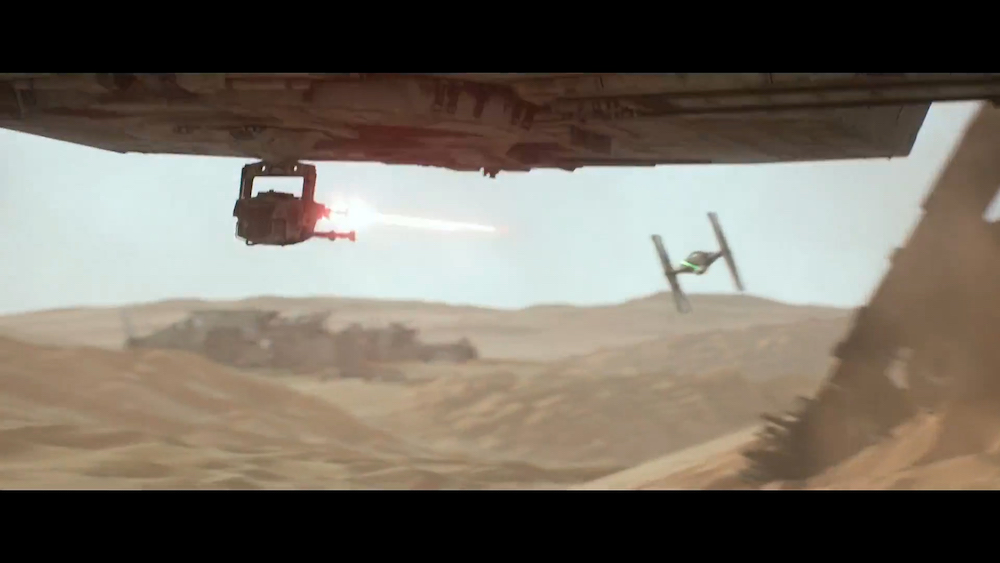Tie Fighter: (652, 211, 744, 316)
